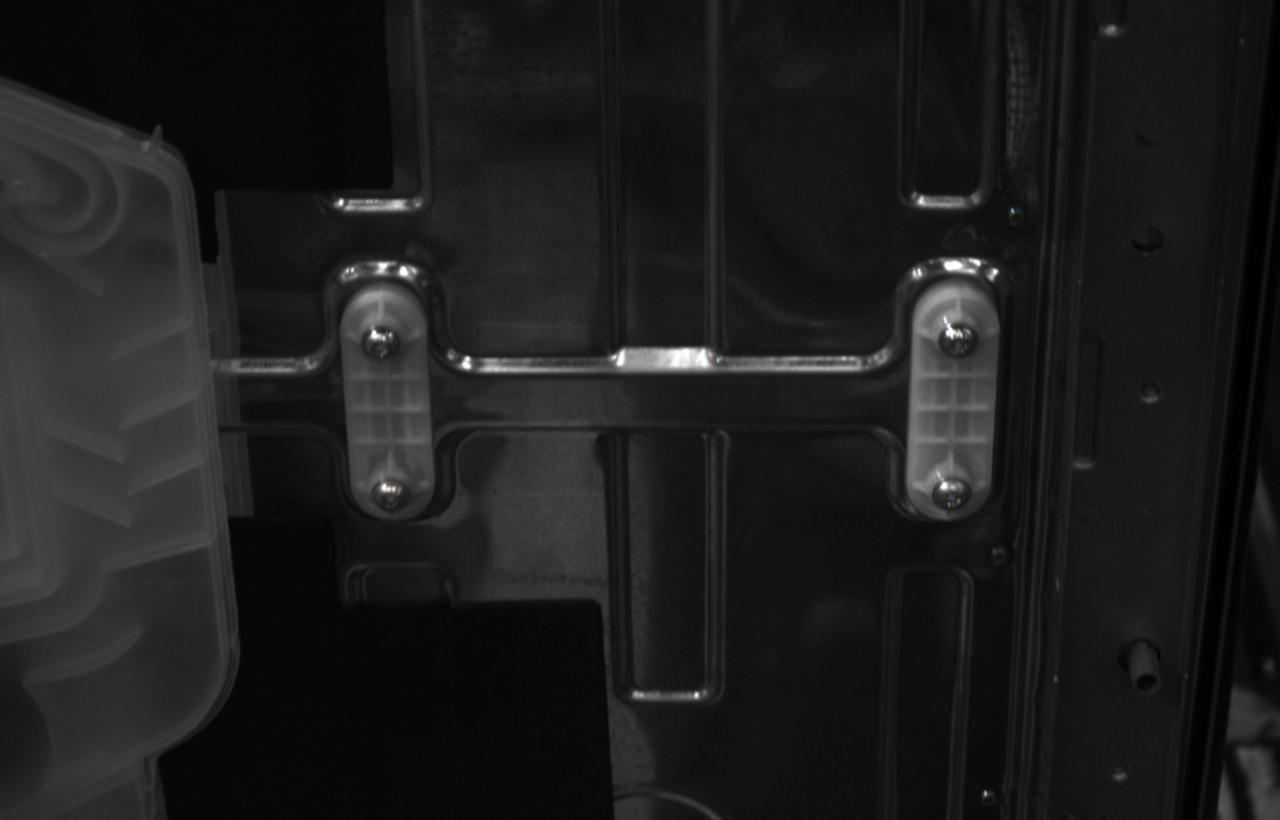vida-ok: (938, 322, 980, 359), (931, 476, 973, 512), (361, 326, 400, 360), (371, 478, 410, 511)
